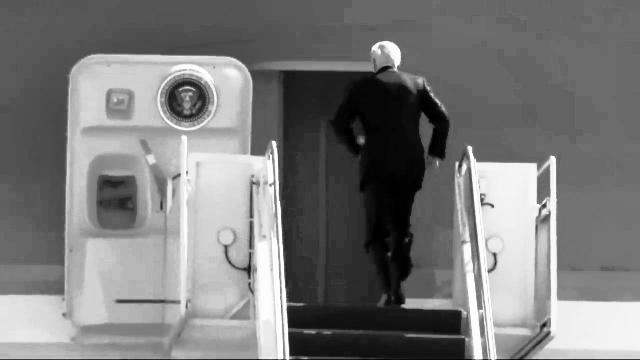berjalan: (328, 39, 472, 317)
